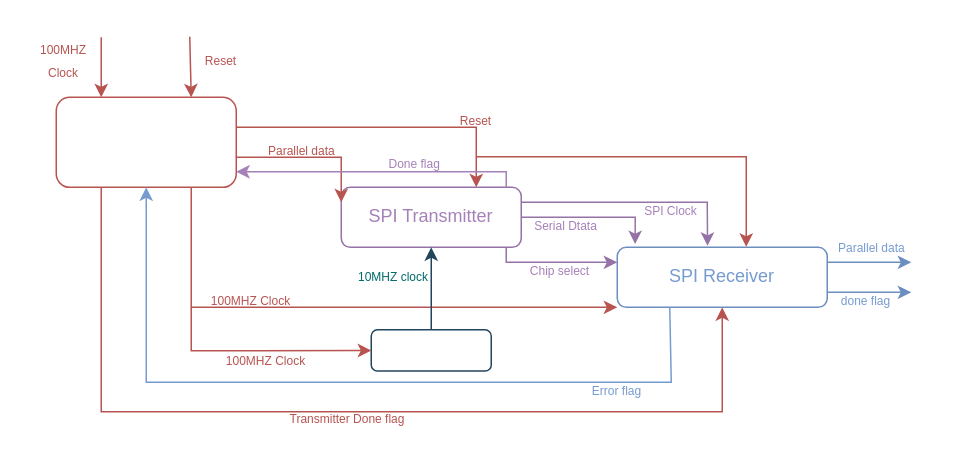
This 966x455 diagram has some shape labels left out. Here are the shapes that lost their labels. From the top down, the centre of each, then its label:
At point (145, 141): "Parent block: SPI".
At point (430, 349): "Clock Divider".
